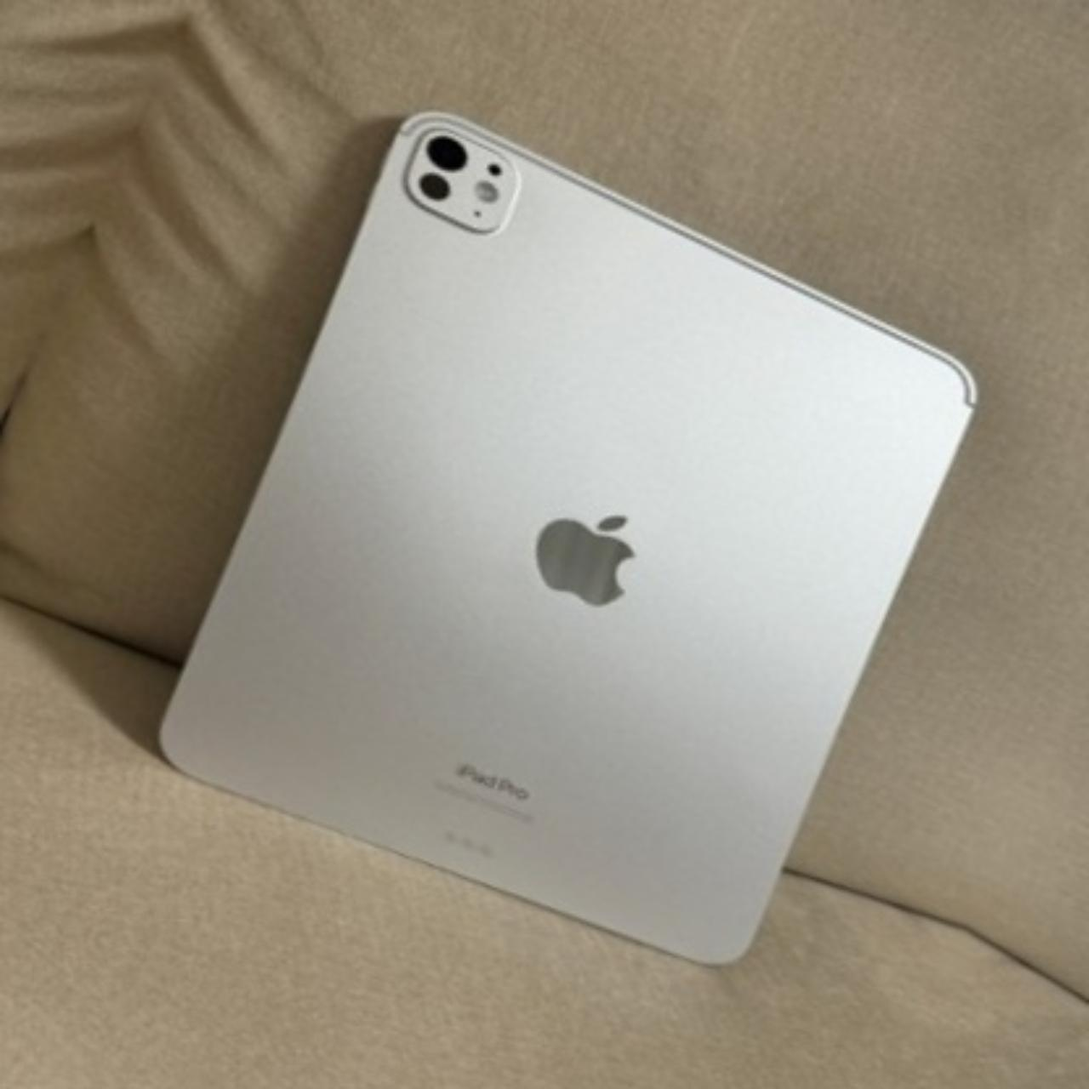Tablet_PC: (99, 70, 1043, 1033)
